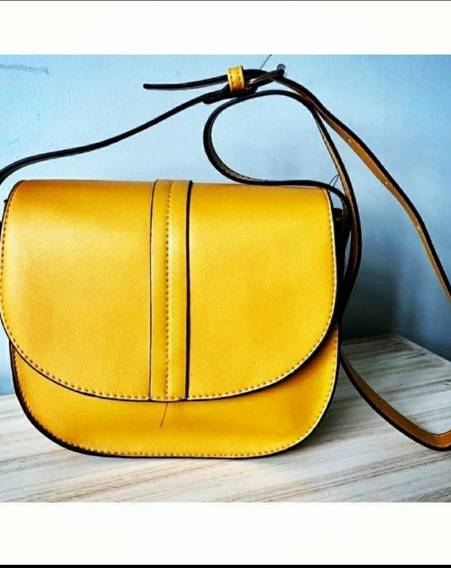cartera: (4, 176, 343, 459)
